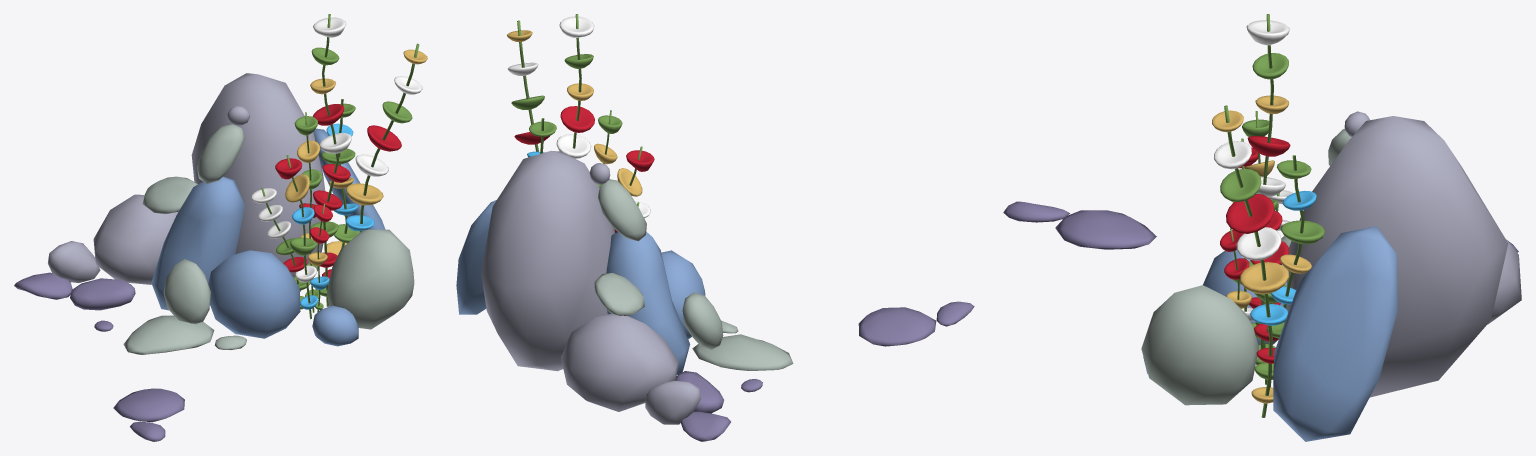
File: rocks1.fbx
3 views of the same model, side by side, from view 1: azimuth 30°, elevation 25°; view 2: azimuth 150°, elevation 25°; view 3: azimuth 270°, elevation 25° (orthographic). The views are drawn at different scales.
Parts seen in each view (by area): view 1: Sand.002; view 2: Sand.002; view 3: Sand.002.
Boxes of the visible parts, x1=… form: Sand.002: x1=14, y1=14, x2=427, y2=441; Sand.002: x1=456, y1=14, x2=974, y2=441; Sand.002: x1=1003, y1=14, x2=1521, y2=441.
Bounding box in the file's own units: 952 × 751 × 899.
